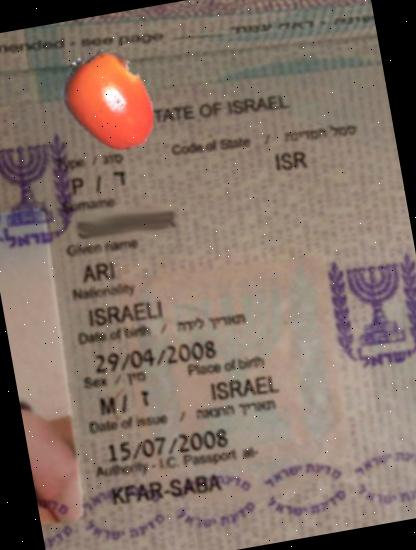Kaki: (49, 39, 173, 162)
